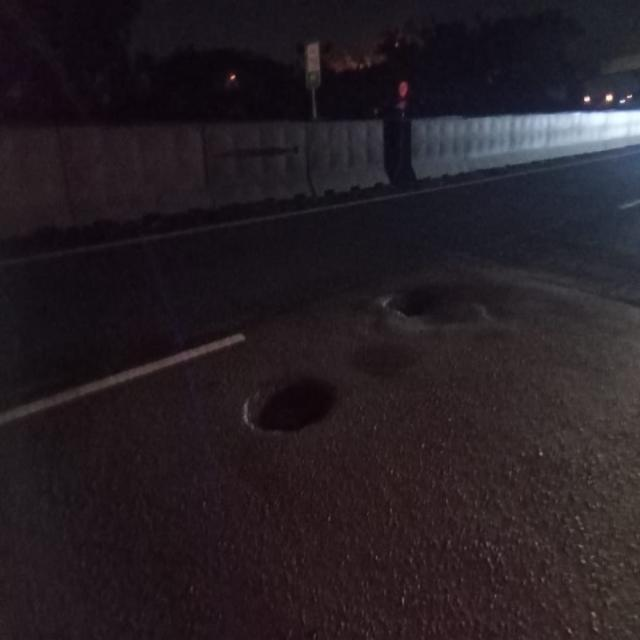Buraco: (238, 373, 344, 439), (372, 281, 468, 321)
